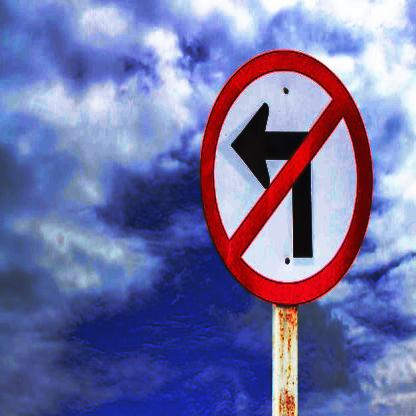No left turn: (198, 44, 374, 307)
